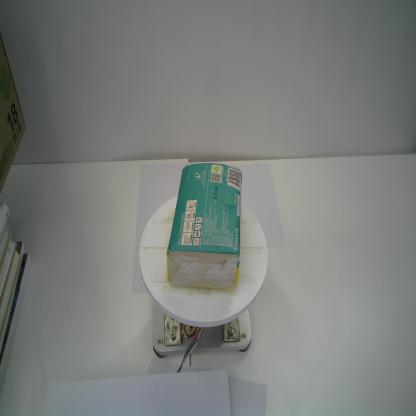Tissue: (166, 160, 243, 292)
